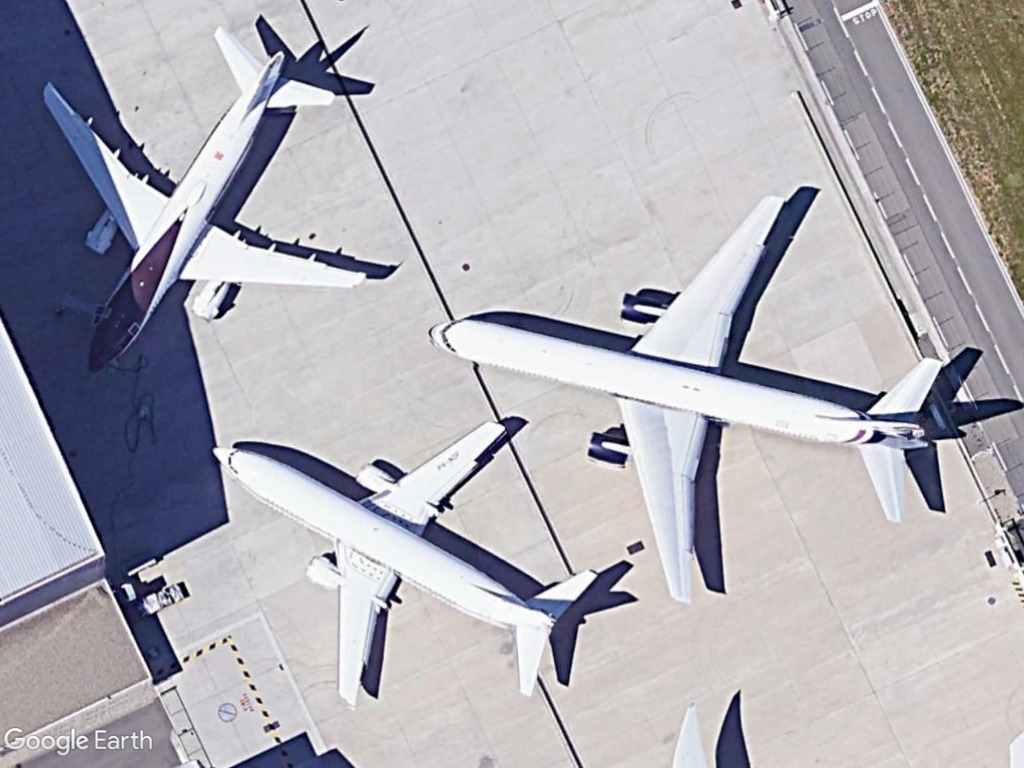airliner: (421, 188, 949, 610), (33, 20, 371, 376), (208, 417, 602, 712)
